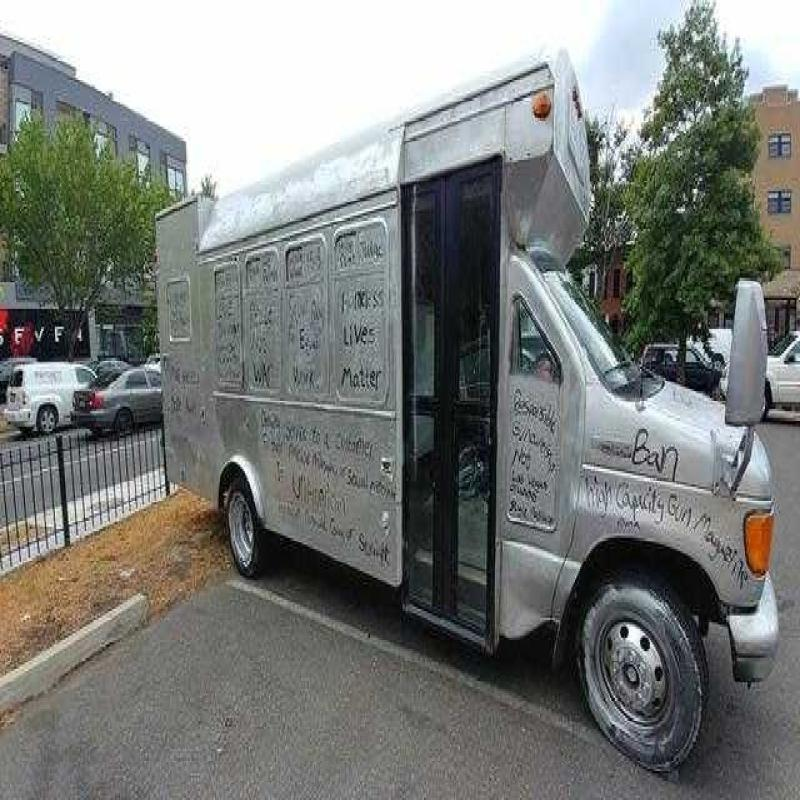bus: (144, 34, 787, 800)
